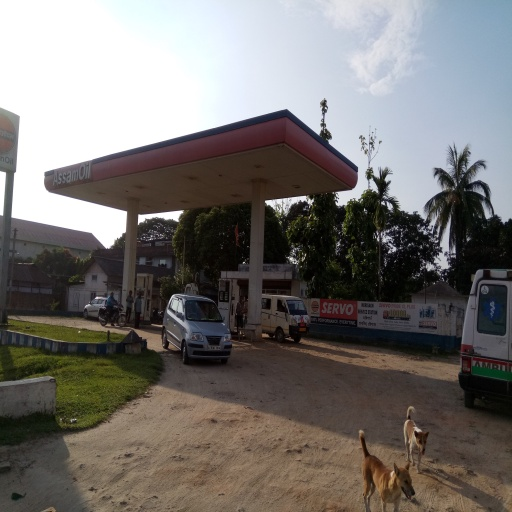roof: (43, 107, 360, 211)
